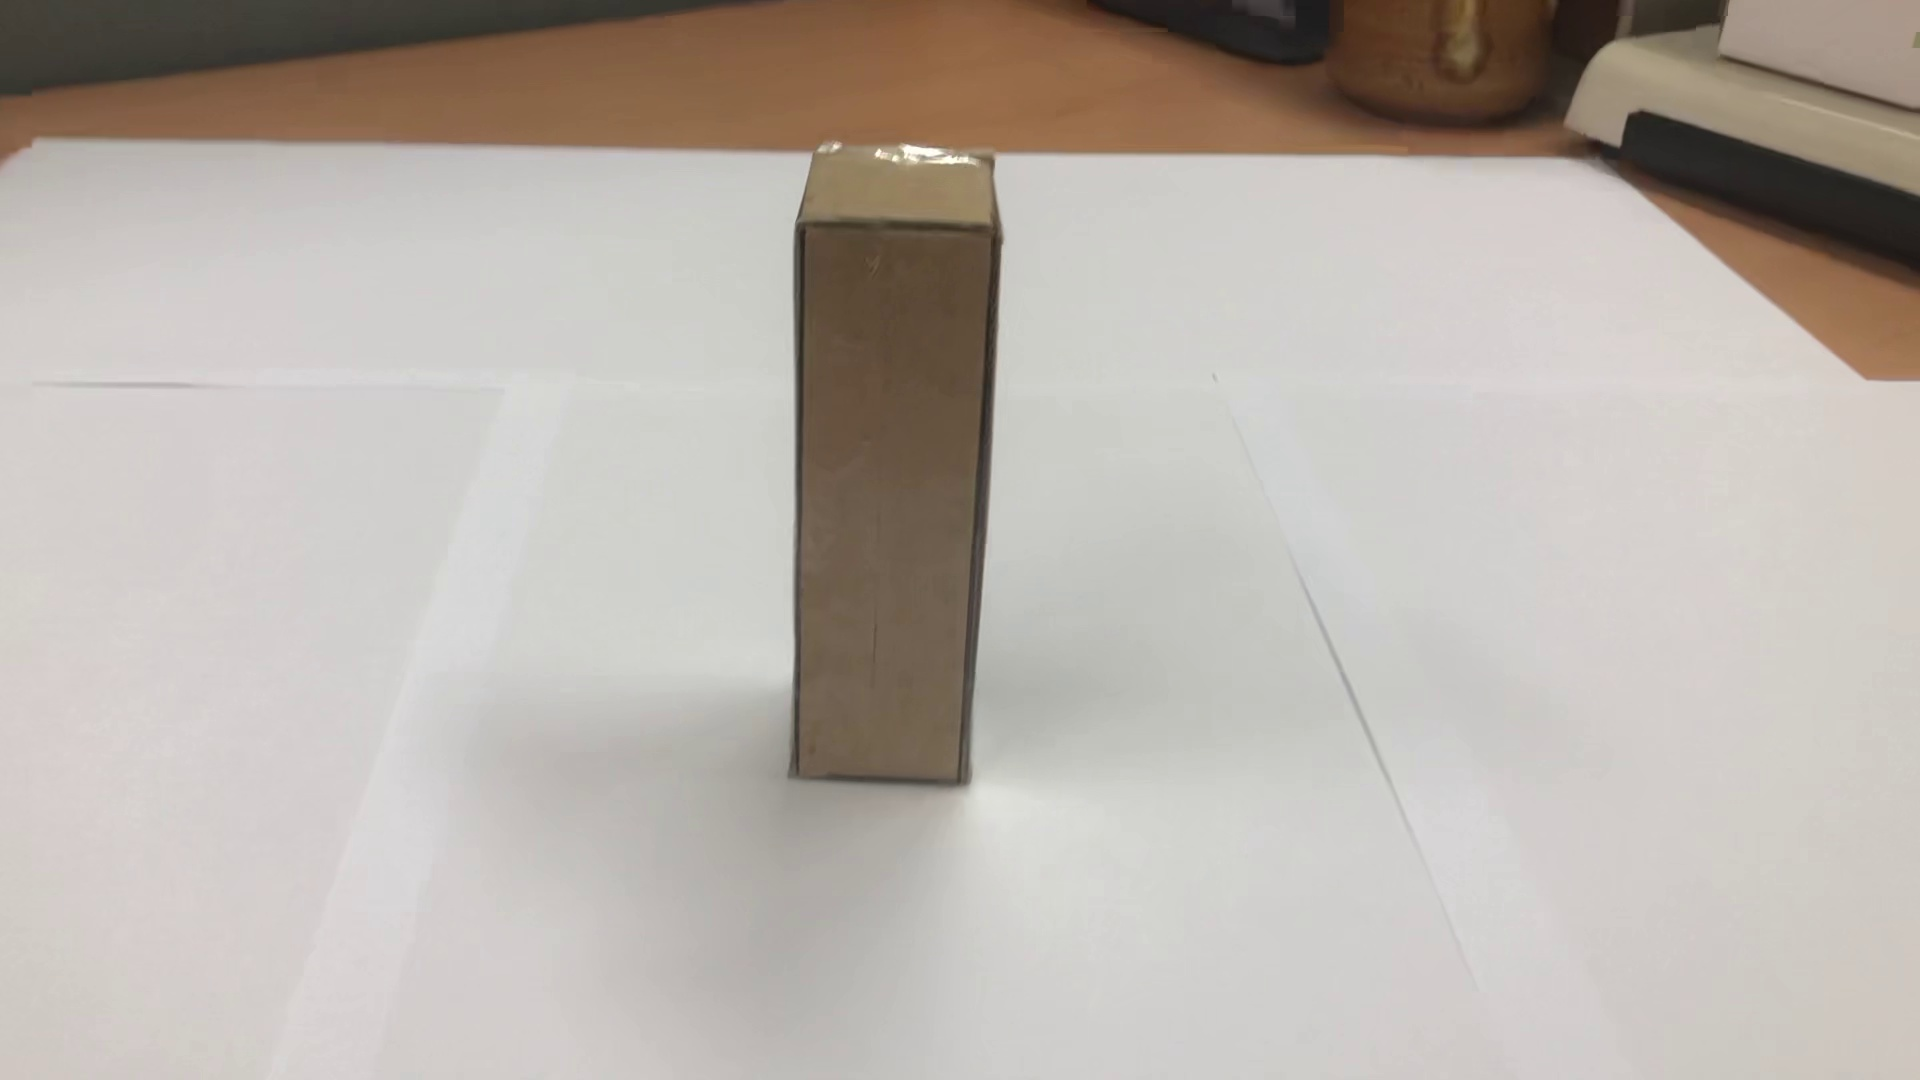box: (742, 131, 1018, 818)
